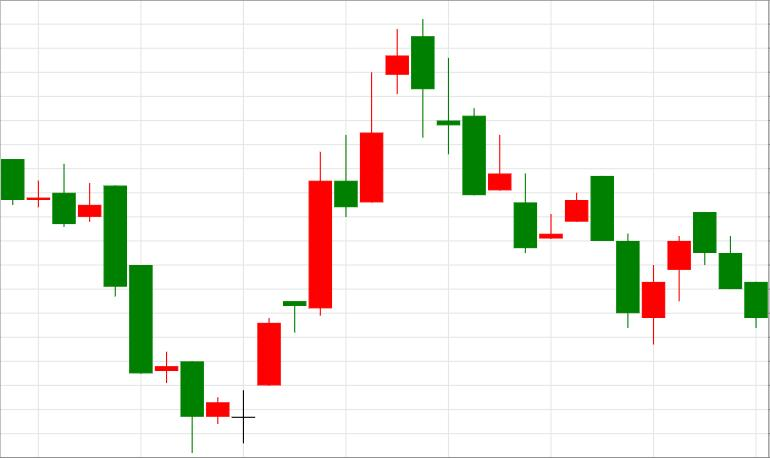inverse_hammer_rise: (231, 19, 434, 443)
